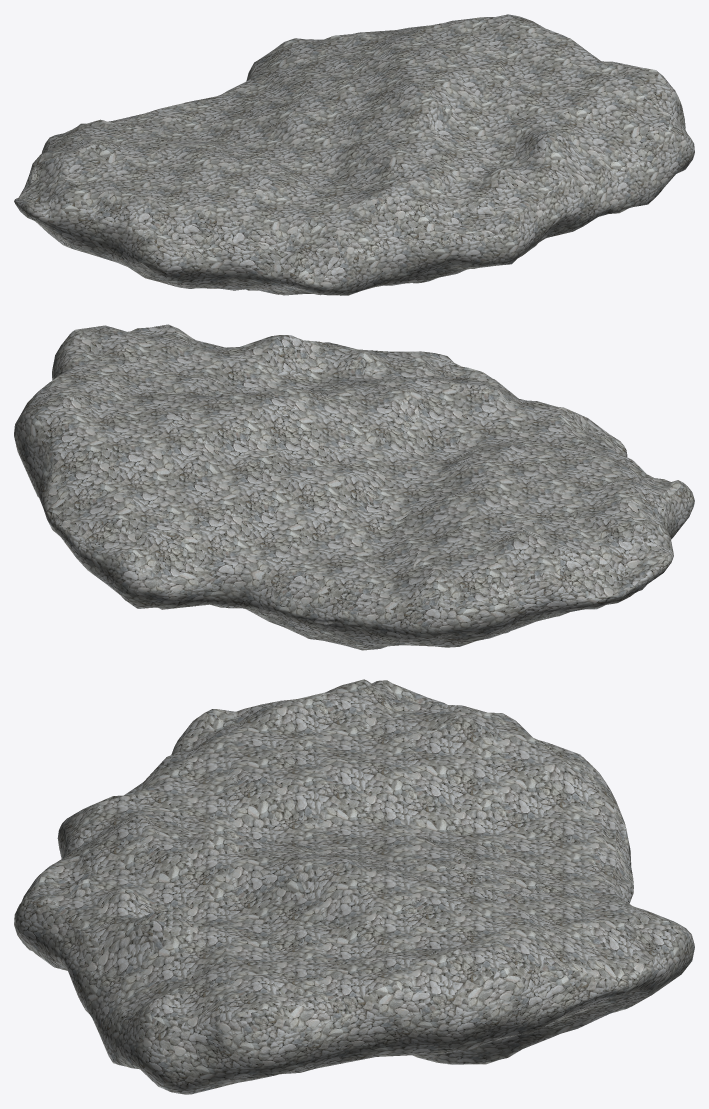
The model's file is PlatformRock2.fbx.
3 views of the same model, one above another, from view 1: azimuth 30°, elevation 25°; view 2: azimuth 150°, elevation 25°; view 3: azimuth 270°, elevation 25° (orthographic). The views are drawn at different scales.
Parts seen in each view (by area): view 1: Sphere.001; view 2: Sphere.001; view 3: Sphere.001.
Part boxes in pixels (box(x1,y1,x2,y2)): Sphere.001: box(14, 14, 694, 295); Sphere.001: box(14, 324, 694, 650); Sphere.001: box(14, 679, 694, 1094).
Bounding box in the file's own units: 25260 × 6572 × 19284.
